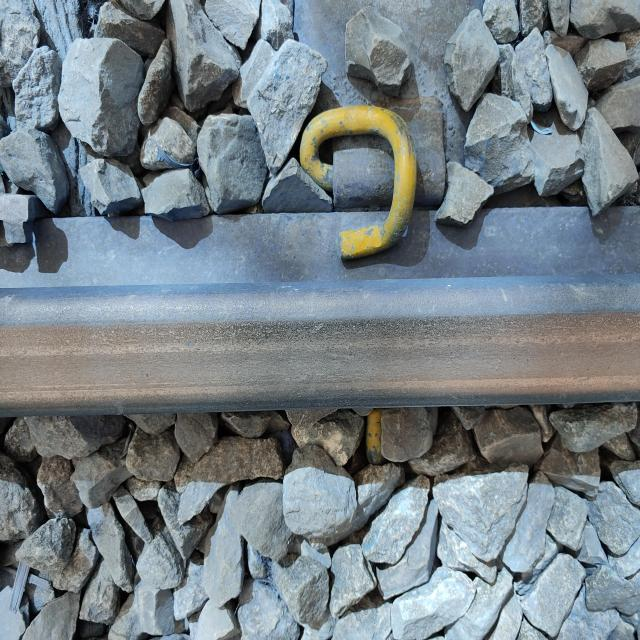Good Fasteners: (297, 88, 458, 281)
